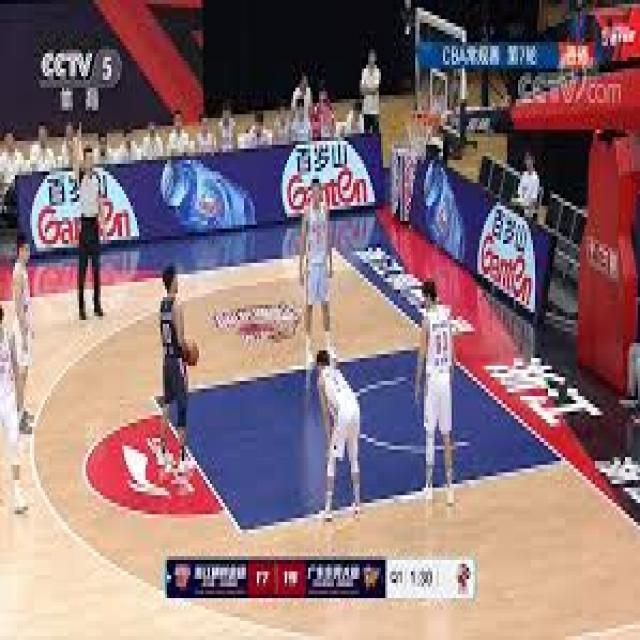rim: (186, 336, 199, 366)
